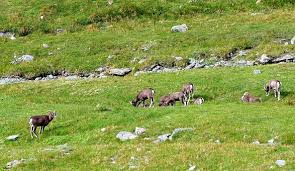sheep: (123, 88, 157, 113), (27, 111, 59, 136), (159, 90, 191, 110), (265, 78, 284, 103), (180, 83, 196, 106)
